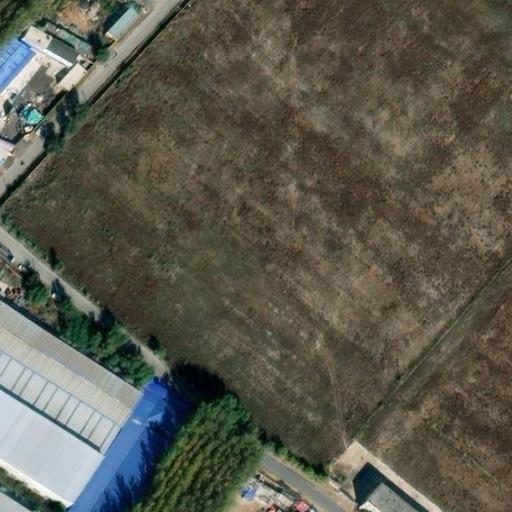building: (61, 421, 167, 512), (121, 386, 190, 451), (359, 474, 425, 512), (38, 29, 82, 60), (98, 7, 132, 47), (31, 42, 70, 72), (0, 131, 19, 166), (55, 65, 77, 94)
